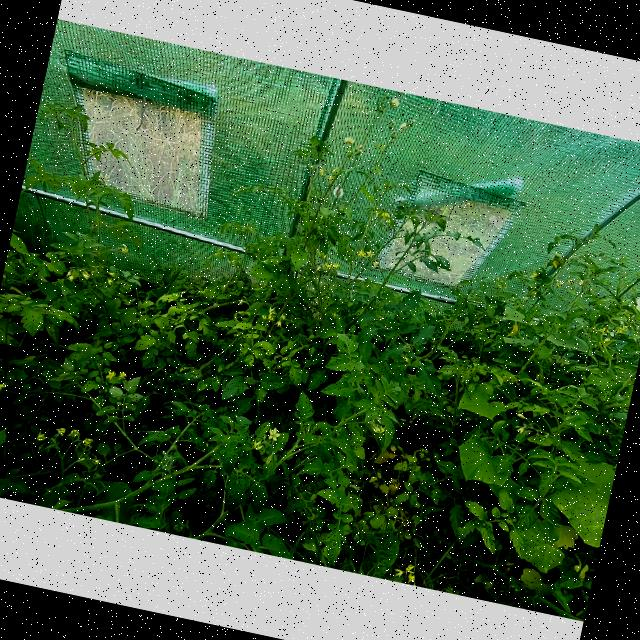Flowers: (546, 252, 566, 272), (493, 276, 510, 292), (368, 422, 386, 436), (267, 426, 282, 442), (613, 322, 629, 336), (341, 135, 356, 149), (512, 422, 528, 434), (33, 430, 48, 442), (250, 439, 263, 452), (80, 436, 94, 448), (64, 269, 76, 283), (88, 455, 101, 467), (104, 368, 116, 381), (514, 411, 529, 421), (68, 428, 80, 440), (116, 370, 128, 382), (403, 563, 415, 575), (364, 248, 376, 260), (54, 426, 66, 437), (393, 568, 405, 578), (79, 270, 91, 280), (529, 270, 541, 280), (118, 244, 129, 254), (322, 260, 332, 271), (0, 380, 9, 392), (261, 313, 274, 321), (406, 572, 416, 582), (104, 276, 114, 286), (356, 248, 366, 258), (370, 259, 380, 269), (380, 210, 391, 219), (237, 298, 249, 306), (596, 326, 608, 334), (266, 306, 276, 315), (278, 312, 288, 321), (318, 250, 327, 260), (400, 354, 410, 363), (104, 270, 116, 277), (274, 319, 283, 328), (330, 165, 339, 174), (329, 310, 338, 319), (384, 218, 394, 226), (553, 280, 563, 288), (566, 278, 576, 286), (578, 278, 588, 286), (331, 262, 340, 270), (326, 175, 333, 183), (318, 168, 324, 176)
